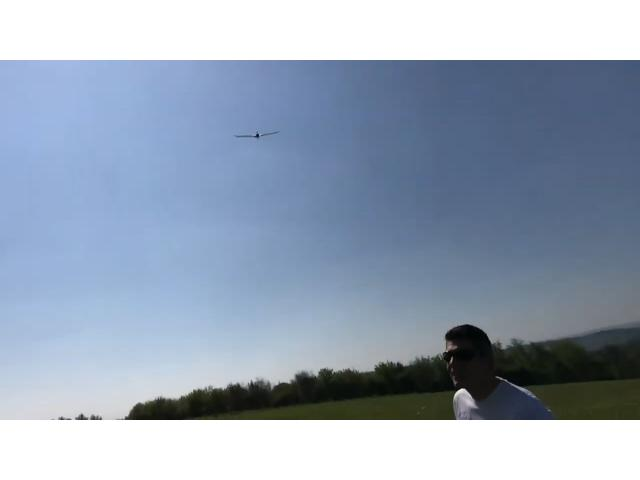Anti-Drone: (234, 130, 280, 140)
